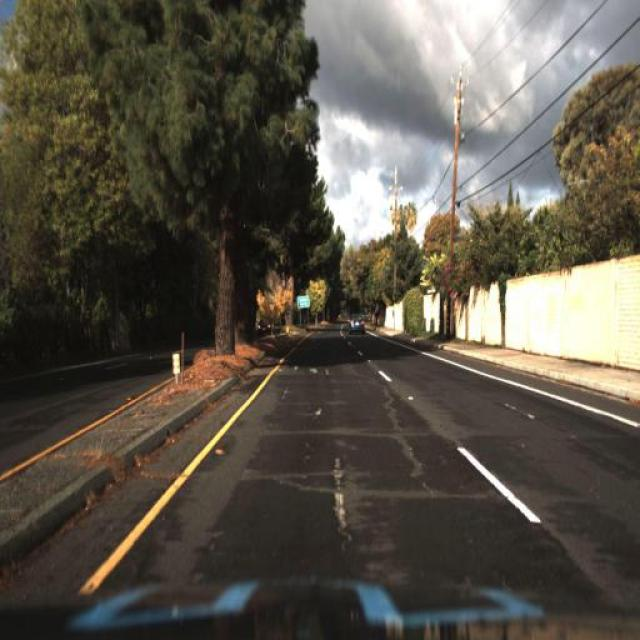car: (349, 314, 366, 336), (257, 316, 274, 336)
